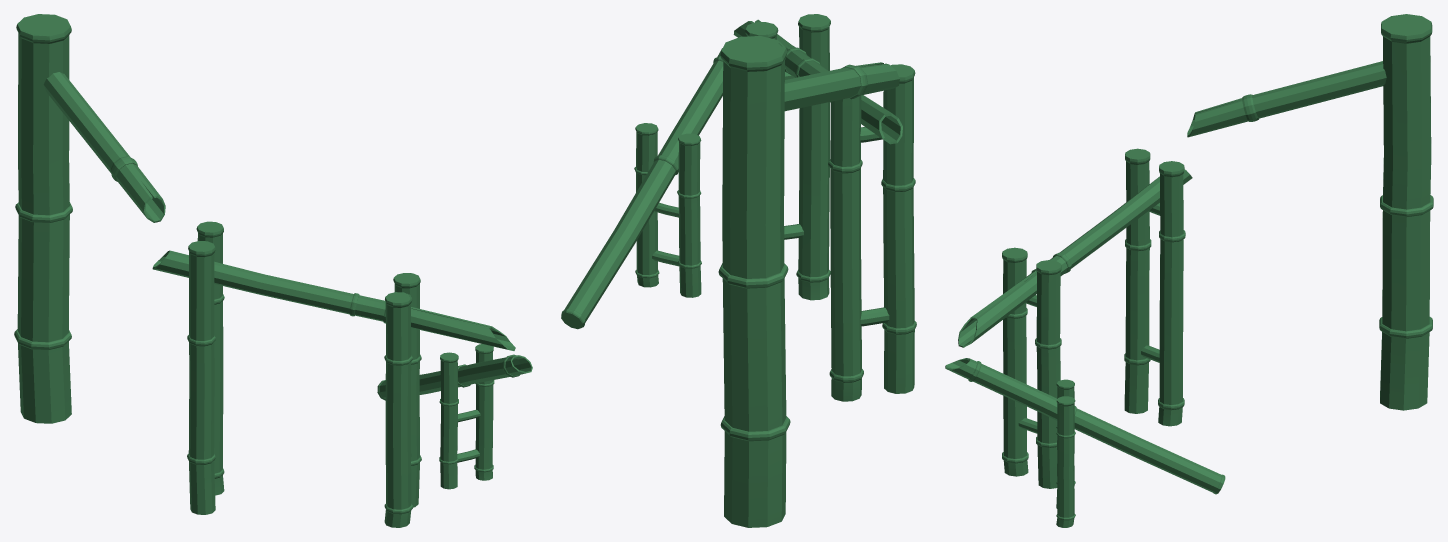
File: deerScarer.fbx
3 views of the same model, side by side, from view 1: azimuth 30°, elevation 25°; view 2: azimuth 150°, elevation 25°; view 3: azimuth 270°, elevation 25° (orthographic). The views are drawn at different scales.
Parts seen in each view (by area): view 1: bambooSetup, bambooPiece, deerScarer; view 2: bambooSetup, deerScarer, bambooPiece; view 3: bambooSetup, deerScarer, bambooPiece.
Part boxes in pixels (box(x1,y1,x2,y2)): bambooSetup: box(14, 14, 494, 527); bambooPiece: box(152, 250, 515, 350); deerScarer: box(377, 354, 532, 400); bambooSetup: box(634, 14, 916, 527); deerScarer: box(561, 48, 723, 329); bambooPiece: box(733, 19, 902, 144); bambooSetup: box(1002, 14, 1433, 527); deerScarer: box(945, 358, 1225, 494); bambooPiece: box(958, 169, 1192, 347).
Size of the model in its own units: 0.6431 by 0.7935 by 0.937.
